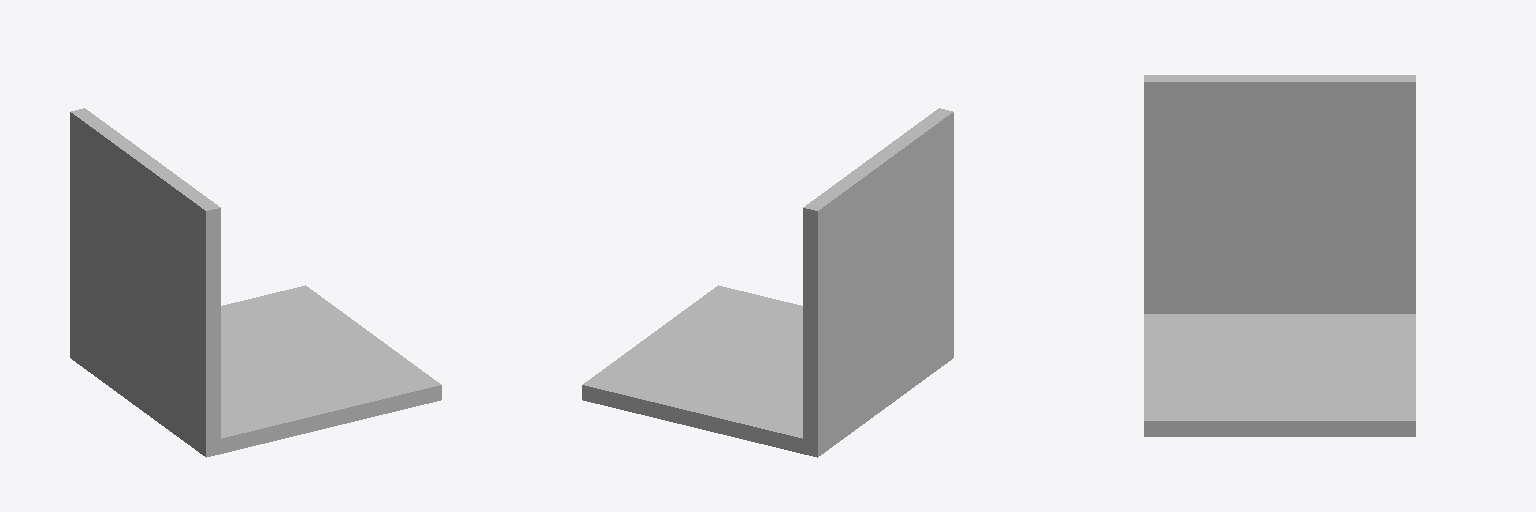
The model's file is side_w.obj.
3 renders of one model, left to right at view 1: azimuth 30°, elevation 25°; view 2: azimuth 150°, elevation 25°; view 3: azimuth 270°, elevation 25°, orthographic.
Parts seen in each view (by area): view 1: wall, floor; view 2: wall, floor; view 3: wall, floor.
Part boxes in pixels (left/top/right/bottom): wall: left=70, top=108, right=220, bottom=441; floor: left=70, top=285, right=441, bottom=457; wall: left=803, top=108, right=953, bottom=441; floor: left=582, top=285, right=953, bottom=457; wall: left=1144, top=75, right=1415, bottom=313; floor: left=1144, top=314, right=1415, bottom=436.
Size of the model in its own units: 16 by 16 by 16.